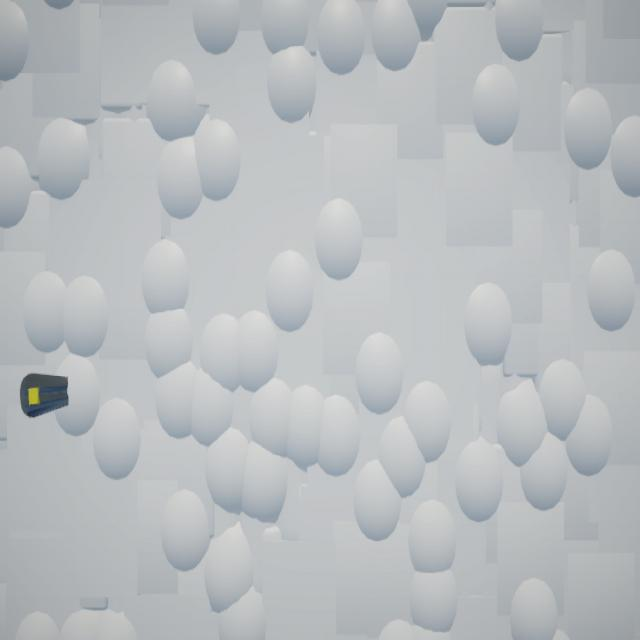handle_folk: (21, 374, 70, 420)
